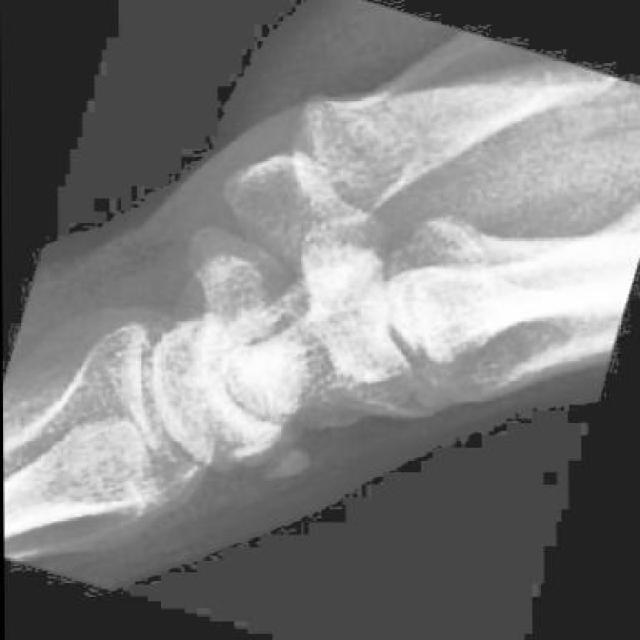Fracture: (245, 409, 333, 500)
